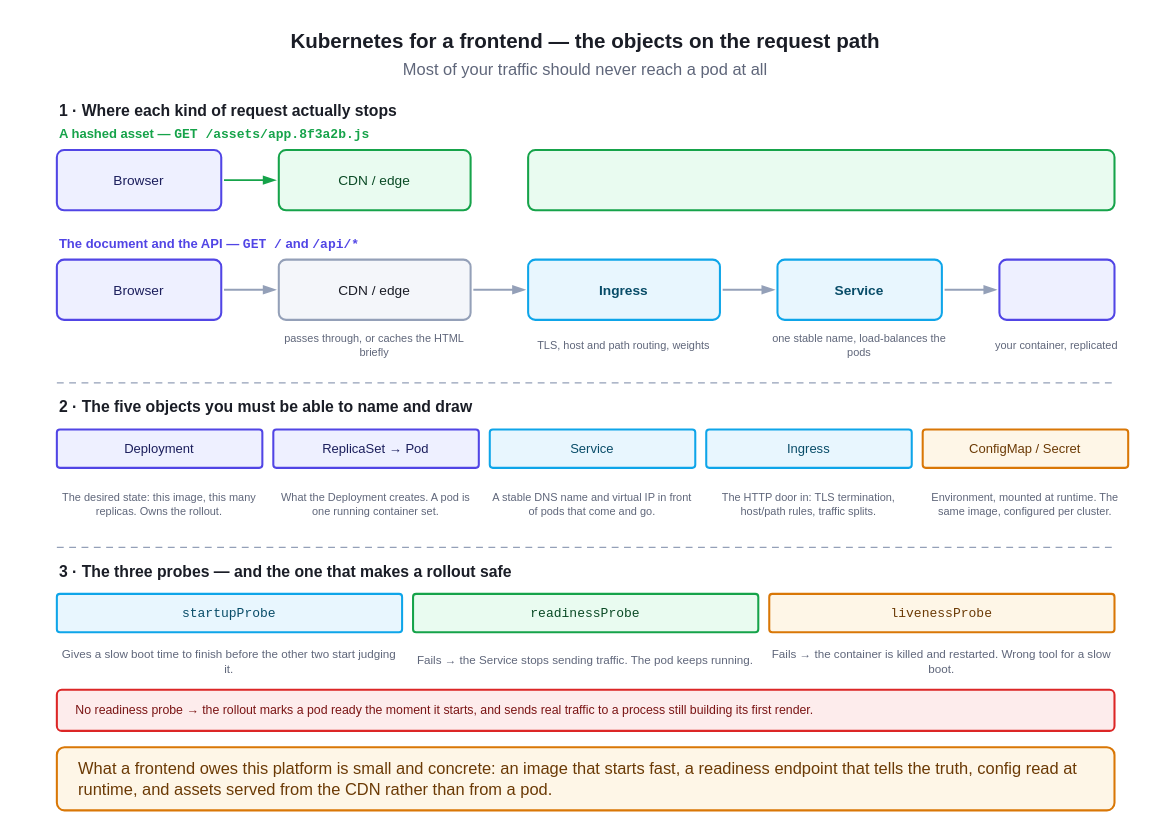
Some shapes in this 1170 by 834 pixel diagram are drawn without their labels. Each missing label, with the centre of its shape:
Pods ×3: pixel 1056 289
Stops here. Immutable, hashed, cached at the edge — the cluster never sees it.: pixel 820 179
